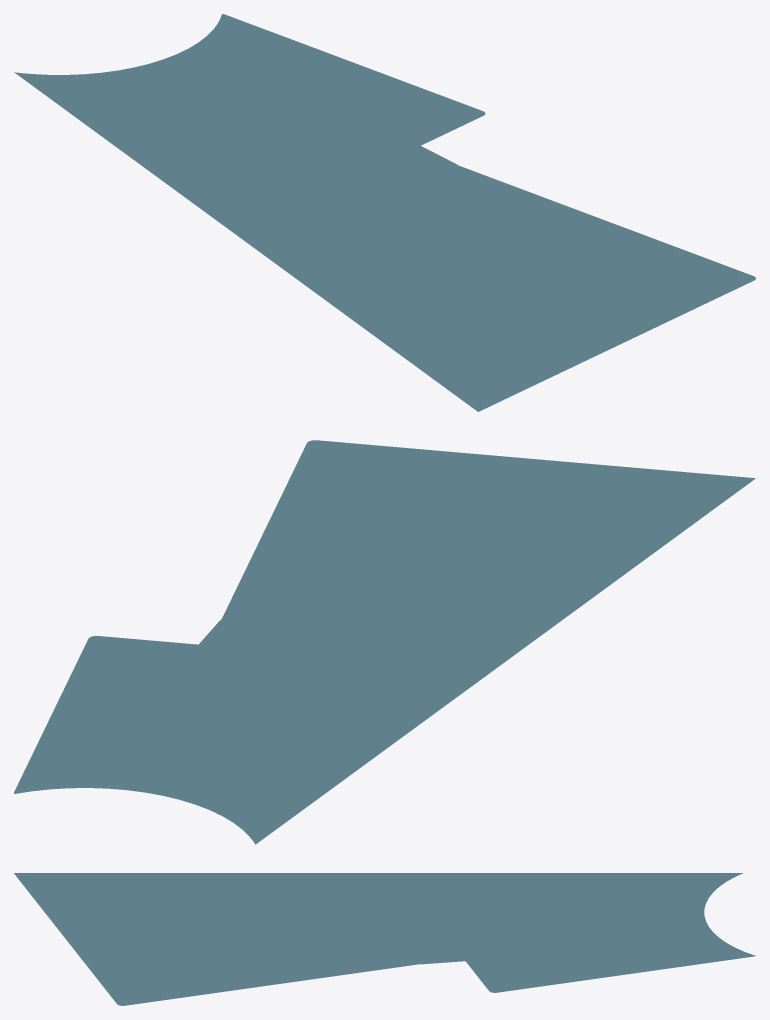
File: lakeview-ohn-offshore-0f27774f67dc.glb
3 renders of one model, top to bottom at view 1: azimuth 30°, elevation 25°; view 2: azimuth 150°, elevation 25°; view 3: azimuth 270°, elevation 25°, orthographic. The views are drawn at different scales.
Visible parts, largest first — view 1: OHN_Lakeview_Offshore_Supplement_v2; view 2: OHN_Lakeview_Offshore_Supplement_v2; view 3: OHN_Lakeview_Offshore_Supplement_v2.
Boxes of the visible parts, <box> form: OHN_Lakeview_Offshore_Supplement_v2: <box>14,14,755,411</box>; OHN_Lakeview_Offshore_Supplement_v2: <box>14,440,755,844</box>; OHN_Lakeview_Offshore_Supplement_v2: <box>14,873,755,1005</box>.
Size of the model in its own units: 996 by 0 by 2350.
